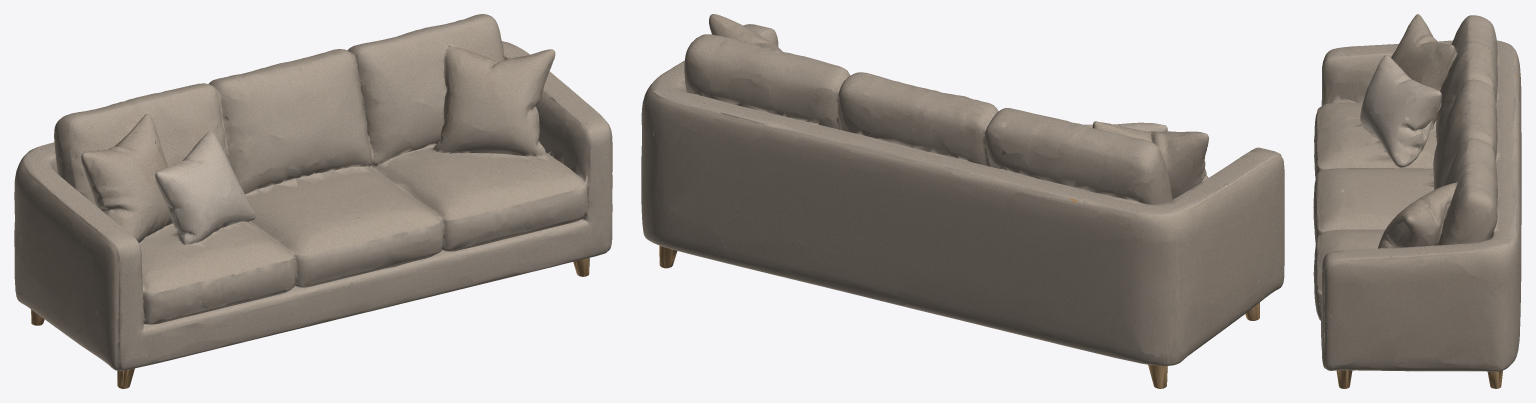
The model's file is sofa-beige.glb.
The picture shows the model from 3 angles, left to right: view 1: azimuth 30°, elevation 25°; view 2: azimuth 150°, elevation 25°; view 3: azimuth 270°, elevation 25°; orthographic projection. The views are drawn at different scales.
Parts seen in each view (by area): view 1: Mesh_0; view 2: Mesh_0; view 3: Mesh_0.
Part boxes in pixels (<box>): Mesh_0: <box>14,14,612,388</box>; Mesh_0: <box>641,14,1284,388</box>; Mesh_0: <box>1313,14,1521,388</box>.
Size of the model in its own units: 2.1 by 0.8327 by 0.8458.
Materials: 1 (1 with a texture image).
